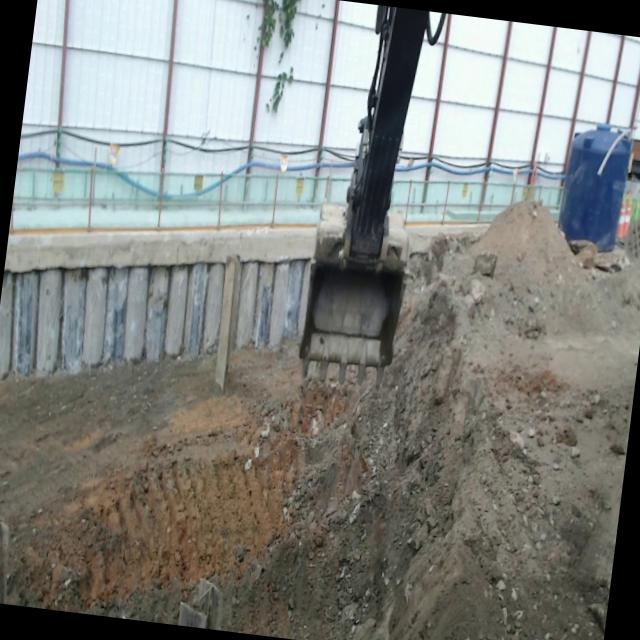white-sand: (0, 203, 640, 640)
